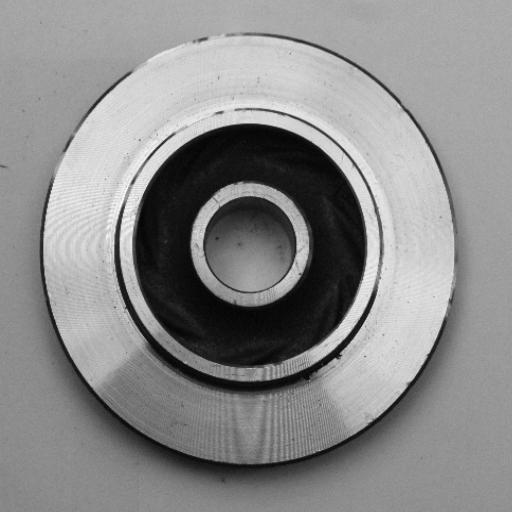scratch: (160, 102, 244, 135), (297, 364, 320, 388), (329, 341, 349, 368)
unpolished_casting: (42, 31, 461, 472)
